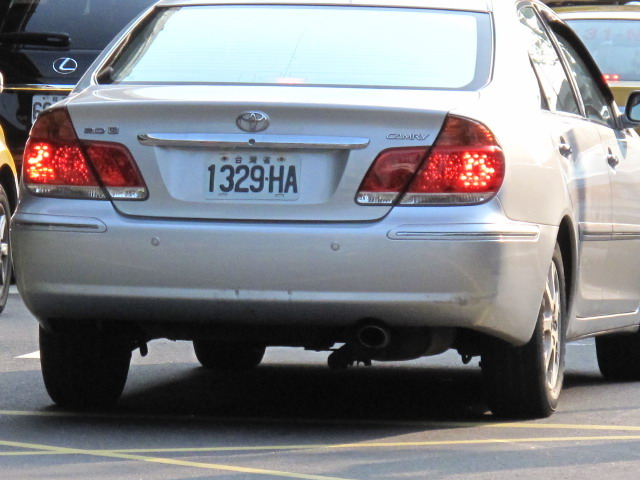plate: (201, 153, 304, 202)
